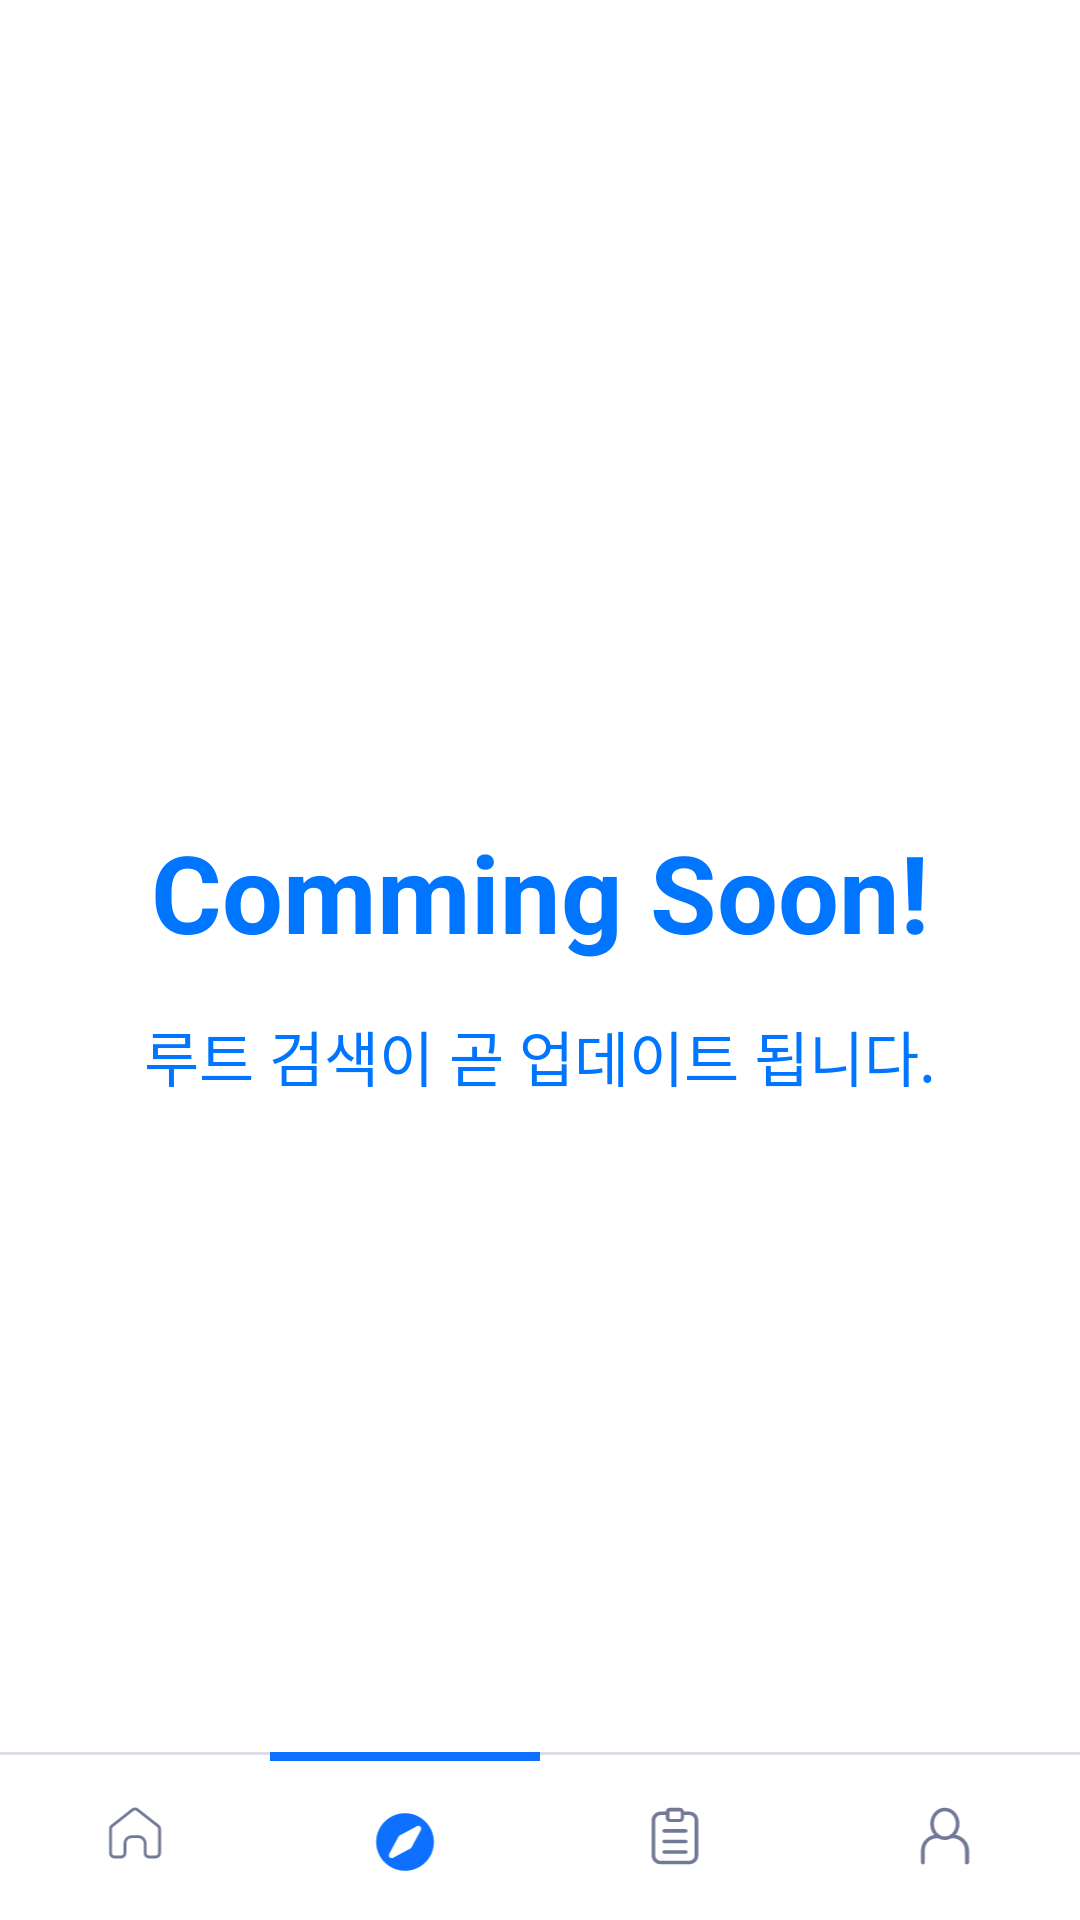

Named icons in this screenshot (1080px×1920px) and their bounding boxes, bbox=(x1, y1, x2, y2):
home non: bbox=(109, 1807, 162, 1859)
report none: bbox=(651, 1807, 699, 1865)
route sel: bbox=(375, 1813, 435, 1871)
